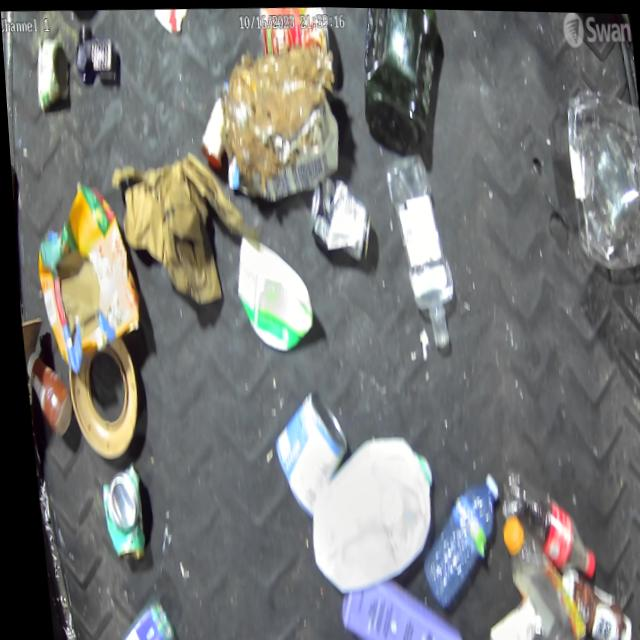can: (292, 427, 439, 596), (262, 383, 350, 523), (303, 171, 373, 264), (91, 458, 143, 562), (255, 4, 332, 56), (29, 31, 73, 112)
plastic_bottle: (490, 462, 592, 582), (494, 508, 579, 640)
